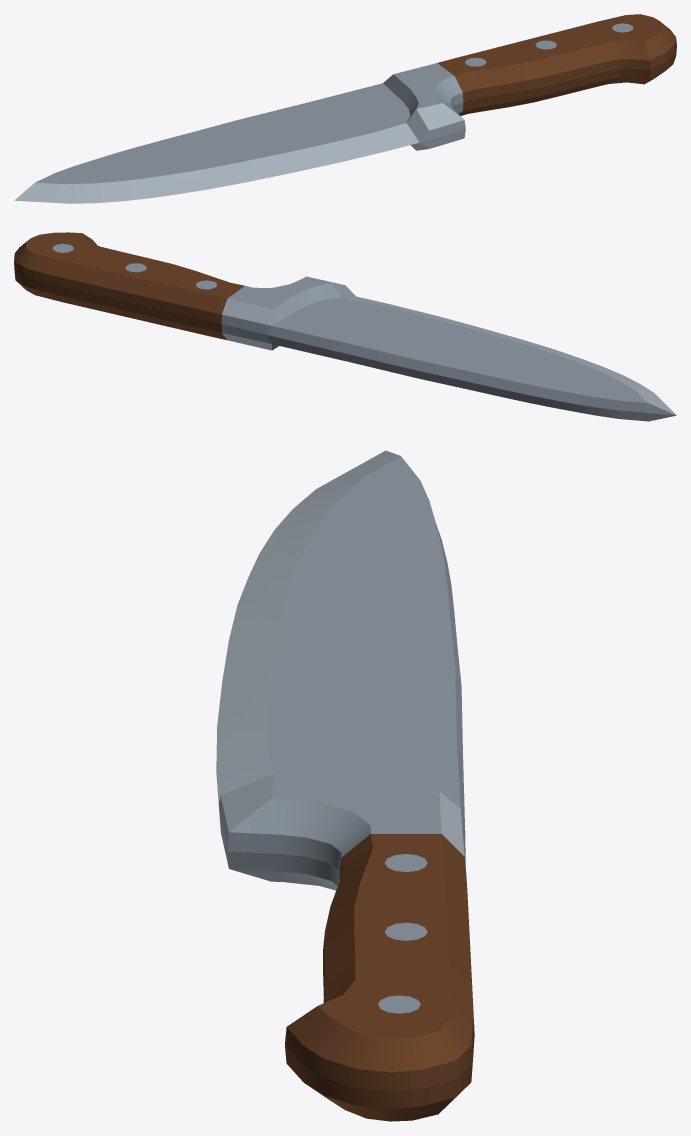
File: KnifeFractured.fbx
The picture shows the model from 3 angles, top to bottom: view 1: azimuth 30°, elevation 25°; view 2: azimuth 150°, elevation 25°; view 3: azimuth 270°, elevation 25°; orthographic projection. The views are drawn at different scales.
Visible parts, largest first — view 1: Knife_01_Frac_01, Knife_01_Frac_17, Knife_01_Frac_07, Knife_01_Frac_03, Knife_01_Frac_10, Knife_01_Frac_14, Knife_01_Frac_15, Knife_01_Frac_08, Knife_01_Frac_13, Knife_01_Frac_04, Knife_01_Frac_11, Knife_01_Frac_06 (+4 smaller); view 2: Knife_01_Frac_01, Knife_01_Frac_17, Knife_01_Frac_02, Knife_01_Frac_08, Knife_01_Frac_03, Knife_01_Frac_10, Knife_01_Frac_04, Knife_01_Frac_11, Knife_01_Frac_05, Knife_01_Frac_09, Knife_01_Frac_14; view 3: Knife_01_Frac_01, Knife_01_Frac_17, Knife_01_Frac_03, Knife_01_Frac_10, Knife_01_Frac_08, Knife_01_Frac_04, Knife_01_Frac_02, Knife_01_Frac_11, Knife_01_Frac_14, Knife_01_Frac_07, Knife_01_Frac_05, Knife_01_Frac_06 (+3 smaller).
Boxes of the visible parts, box(x1,y1,x2,y2) form: Knife_01_Frac_01: box(245, 14, 676, 165); Knife_01_Frac_17: box(14, 140, 207, 203); Knife_01_Frac_07: box(266, 153, 333, 172); Knife_01_Frac_03: box(208, 116, 314, 140); Knife_01_Frac_10: box(136, 146, 258, 171); Knife_01_Frac_14: box(162, 163, 236, 180); Knife_01_Frac_15: box(148, 179, 221, 193); Knife_01_Frac_08: box(142, 125, 244, 150); Knife_01_Frac_13: box(211, 165, 292, 188); Knife_01_Frac_04: box(207, 134, 298, 149); Knife_01_Frac_11: box(194, 141, 289, 165); Knife_01_Frac_06: box(282, 138, 347, 153); Knife_01_Frac_01: box(14, 232, 448, 361); Knife_01_Frac_17: box(477, 354, 676, 421); Knife_01_Frac_02: box(327, 343, 476, 388); Knife_01_Frac_08: box(426, 355, 529, 395); Knife_01_Frac_03: box(374, 334, 474, 360); Knife_01_Frac_10: box(462, 339, 575, 371); Knife_01_Frac_04: box(418, 330, 496, 356); Knife_01_Frac_11: box(437, 330, 532, 353); Knife_01_Frac_05: box(416, 318, 505, 338); Knife_01_Frac_09: box(451, 349, 513, 365); Knife_01_Frac_14: box(508, 339, 574, 360); Knife_01_Frac_01: box(216, 666, 474, 1121); Knife_01_Frac_17: box(274, 450, 455, 626); Knife_01_Frac_03: box(362, 625, 427, 726); Knife_01_Frac_10: box(314, 540, 363, 656); Knife_01_Frac_08: box(402, 566, 455, 666); Knife_01_Frac_04: box(316, 613, 378, 696); Knife_01_Frac_02: box(427, 625, 463, 772); Knife_01_Frac_11: box(280, 590, 326, 683); Knife_01_Frac_14: box(252, 557, 313, 623); Knife_01_Frac_07: box(219, 652, 273, 717); Knife_01_Frac_05: box(274, 624, 315, 710); Knife_01_Frac_06: box(241, 665, 286, 728).
Size of the model in its own units: 70.17 by 4.25 by 11.96.
